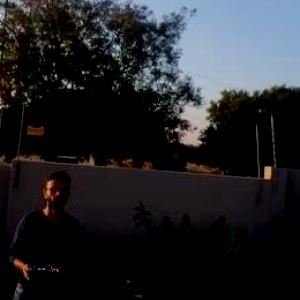follow: (3, 166, 88, 299)
